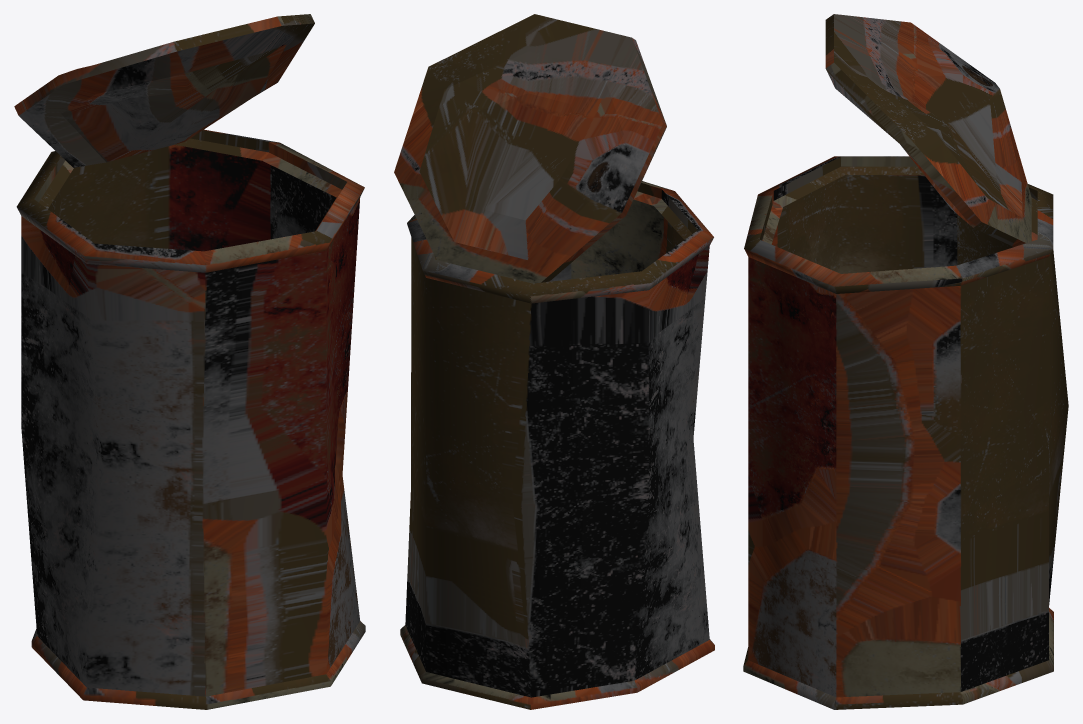
The model's file is StandingCan.fbx.
3 renders of one model, left to right at view 1: azimuth 30°, elevation 25°; view 2: azimuth 150°, elevation 25°; view 3: azimuth 270°, elevation 25°, orthographic. The views are drawn at different scales.
Visible parts, largest first — view 1: Can_01_GEO; view 2: Can_01_GEO; view 3: Can_01_GEO.
Boxes of the visible parts, bbox=[...] form: Can_01_GEO: bbox=[14, 14, 365, 709]; Can_01_GEO: bbox=[394, 14, 714, 709]; Can_01_GEO: bbox=[743, 14, 1068, 709].
Bounding box in the file's own units: 7.72 × 16.63 × 8.09.
1 material, 1 textured.
